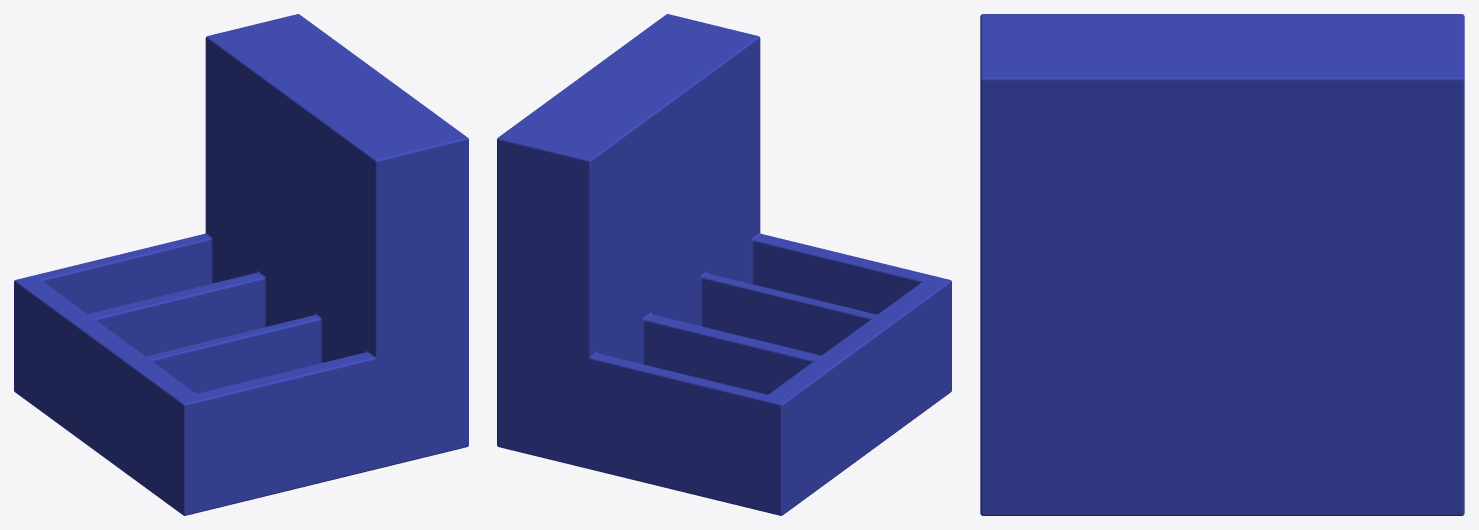
File: votacao.glb
The picture shows the model from 3 angles, left to right: view 1: azimuth 30°, elevation 25°; view 2: azimuth 150°, elevation 25°; view 3: azimuth 270°, elevation 25°; orthographic projection. The views are drawn at different scales.
Parts seen in each view (by area): view 1: Cube.010; view 2: Cube.010; view 3: Cube.010.
Boxes of the visible parts, box(x1,y1,x2,y2) form: Cube.010: box(14, 14, 468, 515); Cube.010: box(497, 14, 951, 515); Cube.010: box(980, 14, 1464, 515).
Size of the model in its own units: 0.5085 by 0.5261 by 0.5261.
